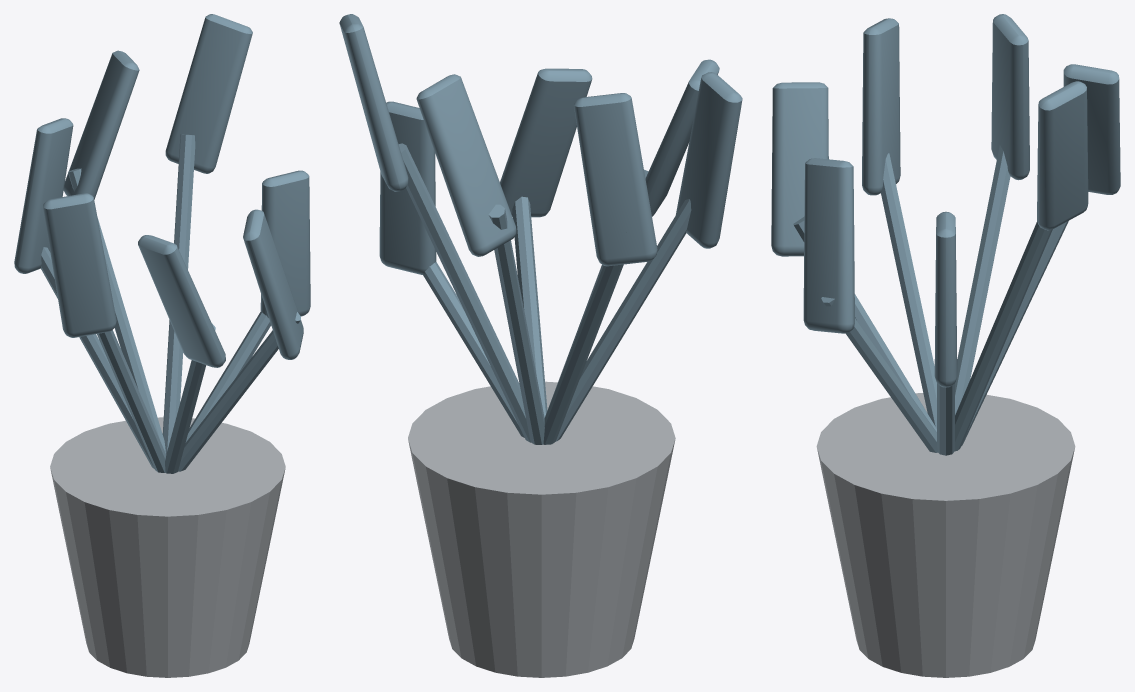
File: road-car-showroom-lineup-showroom-plant-73165f03__15143.glb
3 renders of one model, left to right at view 1: azimuth 30°, elevation 25°; view 2: azimuth 150°, elevation 25°; view 3: azimuth 270°, elevation 25°, orthographic. The views are drawn at different scales.
Visible parts, largest first — view 1: showroom-plant; view 2: showroom-plant; view 3: showroom-plant.
Part boxes in pixels (x1=…): showroom-plant: x1=14, y1=14, x2=310, y2=677; showroom-plant: x1=339, y1=14, x2=742, y2=677; showroom-plant: x1=771, y1=14, x2=1120, y2=677.
Size of the model in its own units: 0.7415 by 1.36 by 0.7022.
